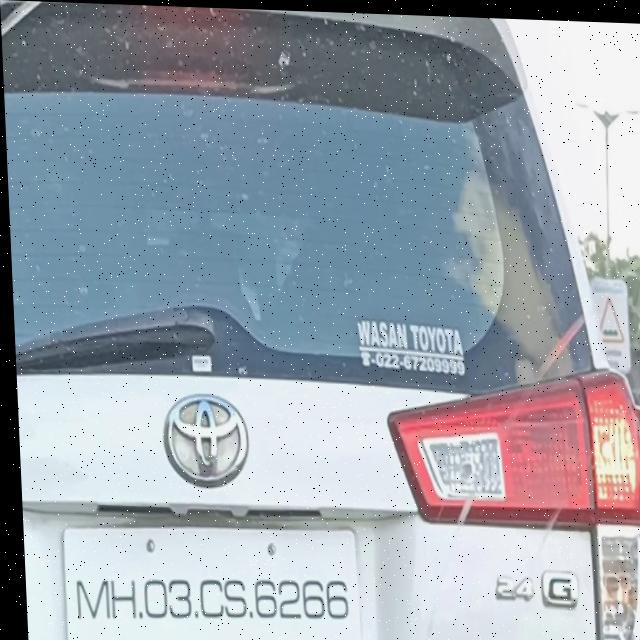plate: (55, 521, 360, 640)
